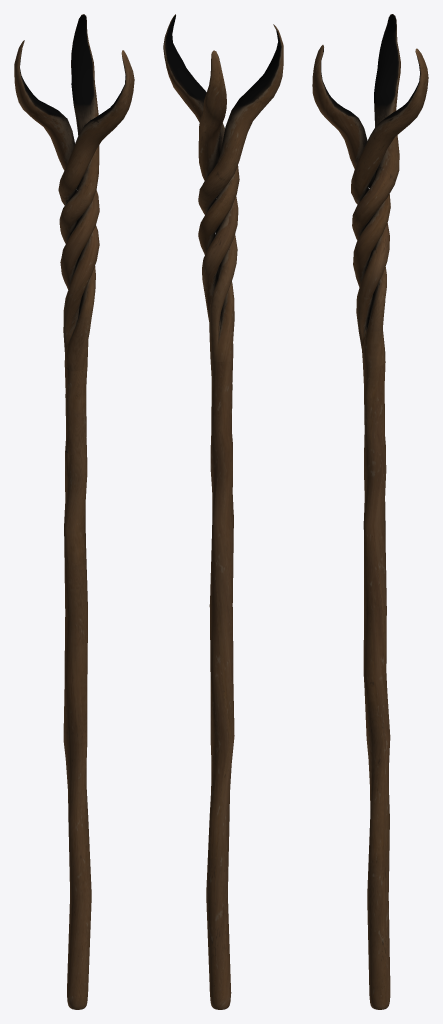
The model's file is Baculo.fbx.
3 views of the same model, side by side, from view 1: azimuth 30°, elevation 25°; view 2: azimuth 210°, elevation 25°; view 3: azimuth 270°, elevation 25° (orthographic).
Visible parts, largest first — view 1: polySurface2; view 2: polySurface2; view 3: polySurface2.
Boxes of the visible parts, x1,y1,x2,y2 form: polySurface2: (14,14,134,1009); polySurface2: (163,14,283,1009); polySurface2: (312,14,428,1009).
Size of the model in its own units: 1.18 by 12.07 by 1.31.
